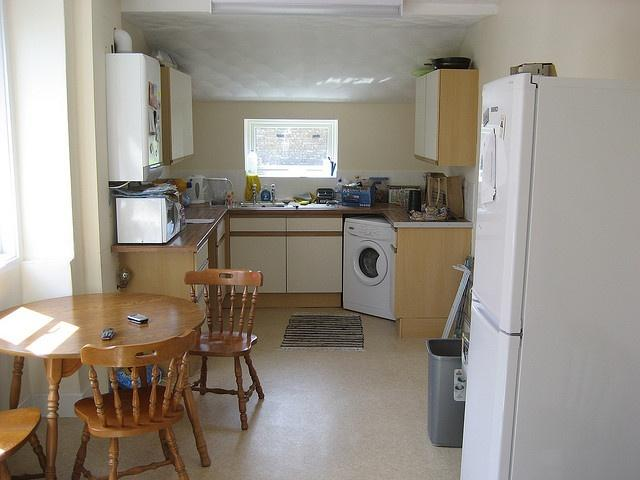Kursi: (71, 329, 194, 479), (184, 268, 263, 432)
Lemari: (412, 67, 441, 166)
Meja: (0, 291, 205, 389)
